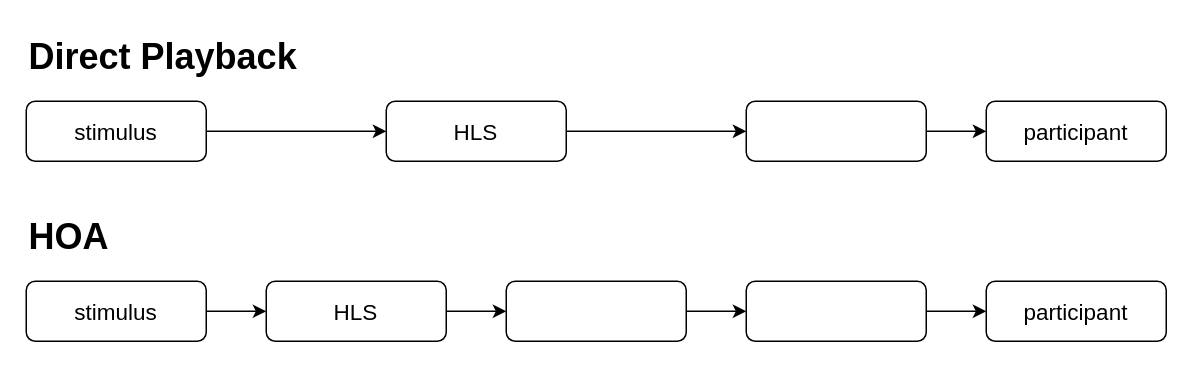
Some shapes in this 1193 by 368 pixel diagram are drawn without their labels. The shapes that lost their labels are listed below. From the top down, each one's centre as x and y in pixels, then its label:
At pixel 835 130: "single loudspeaker".
At pixel 595 310: "HOA virtual encoding".
At pixel 835 310: "SCaLAr (68 speakers)".
